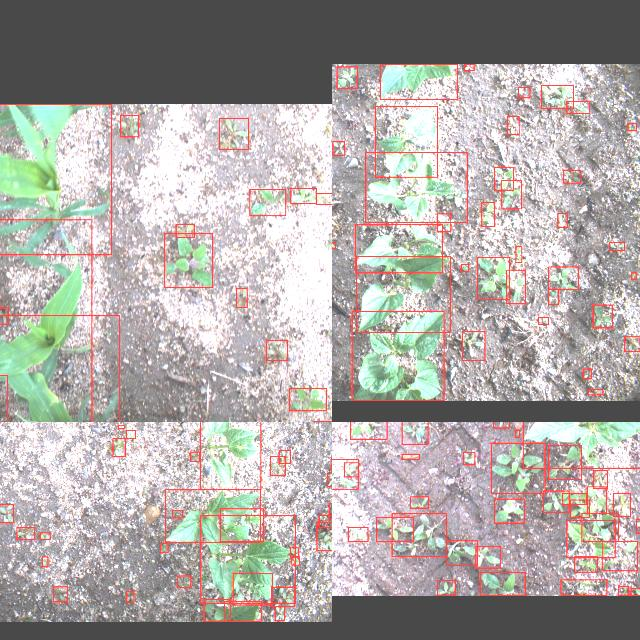crop: (0, 218, 92, 422), (0, 103, 111, 254), (0, 315, 119, 422), (200, 515, 296, 603), (352, 310, 444, 400), (356, 256, 450, 332), (366, 152, 466, 222), (523, 422, 640, 467), (166, 488, 260, 542), (374, 106, 438, 176), (356, 224, 442, 272), (199, 422, 260, 488), (380, 64, 458, 98), (567, 520, 615, 558), (477, 257, 509, 299), (224, 601, 262, 621), (506, 269, 526, 303), (0, 375, 7, 422)
weed: (491, 443, 545, 493), (165, 233, 213, 287), (392, 514, 446, 556), (220, 508, 264, 542), (234, 573, 272, 605), (548, 445, 582, 479), (480, 572, 526, 596), (602, 541, 638, 571), (582, 513, 618, 541), (376, 516, 414, 542), (250, 189, 286, 215), (220, 118, 248, 148), (447, 540, 478, 566), (290, 388, 326, 410), (332, 459, 358, 489), (541, 84, 573, 108), (561, 579, 607, 595), (548, 266, 578, 290), (494, 499, 524, 523), (462, 330, 484, 360), (350, 422, 387, 438), (204, 599, 230, 621), (543, 490, 569, 512), (502, 180, 522, 208), (402, 422, 428, 443), (476, 546, 500, 568), (587, 486, 607, 512), (593, 304, 613, 328), (316, 521, 332, 550), (494, 167, 514, 190), (266, 340, 288, 360), (272, 586, 294, 606), (337, 66, 357, 86), (121, 114, 139, 136), (574, 556, 598, 572), (614, 492, 630, 516), (290, 188, 316, 202), (570, 499, 590, 516), (270, 456, 286, 476), (482, 202, 494, 226), (437, 580, 455, 596), (348, 527, 368, 541), (593, 469, 607, 488), (567, 100, 589, 112), (624, 336, 640, 352), (437, 213, 451, 231), (562, 494, 586, 504), (0, 504, 13, 522), (53, 586, 67, 602), (176, 224, 194, 236), (113, 438, 125, 456), (16, 527, 34, 539), (410, 497, 428, 508), (344, 462, 358, 476), (564, 170, 580, 182), (237, 288, 247, 306), (508, 115, 518, 133), (316, 192, 332, 203), (333, 140, 345, 154), (318, 515, 332, 527), (548, 288, 558, 304), (178, 575, 190, 587), (557, 213, 567, 227), (275, 606, 285, 620), (0, 307, 8, 323), (518, 87, 530, 97), (280, 450, 290, 462), (464, 452, 474, 464), (610, 242, 624, 250), (190, 451, 200, 461), (618, 586, 628, 596), (516, 246, 522, 262), (538, 316, 548, 324), (583, 368, 591, 378), (126, 592, 134, 602), (160, 543, 168, 553), (126, 430, 136, 438), (40, 532, 50, 540), (290, 547, 298, 557), (172, 510, 182, 518), (493, 422, 509, 427), (402, 454, 420, 458), (327, 473, 332, 486), (628, 122, 636, 130), (631, 588, 640, 595), (464, 63, 474, 69), (42, 556, 48, 566), (588, 390, 602, 394), (636, 519, 640, 533), (461, 264, 469, 270), (292, 556, 298, 564), (329, 503, 332, 518), (632, 272, 636, 280), (515, 429, 519, 436), (118, 424, 124, 428), (332, 242, 335, 248), (331, 457, 332, 470)
